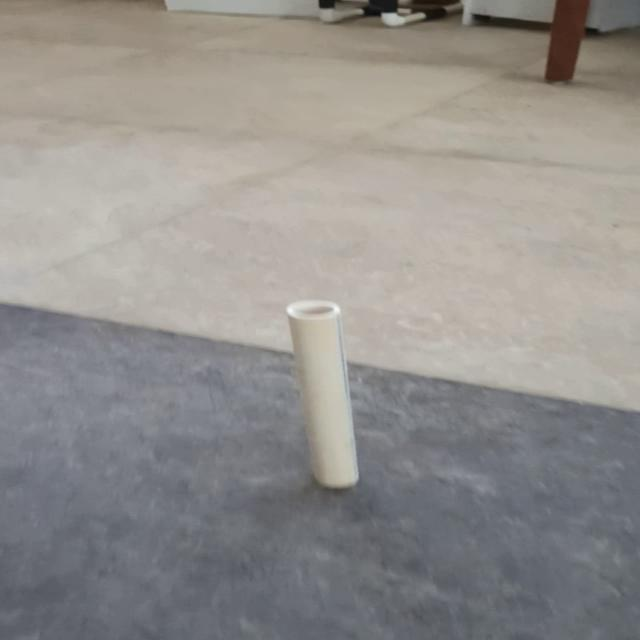Cube: (284, 299, 360, 489)
